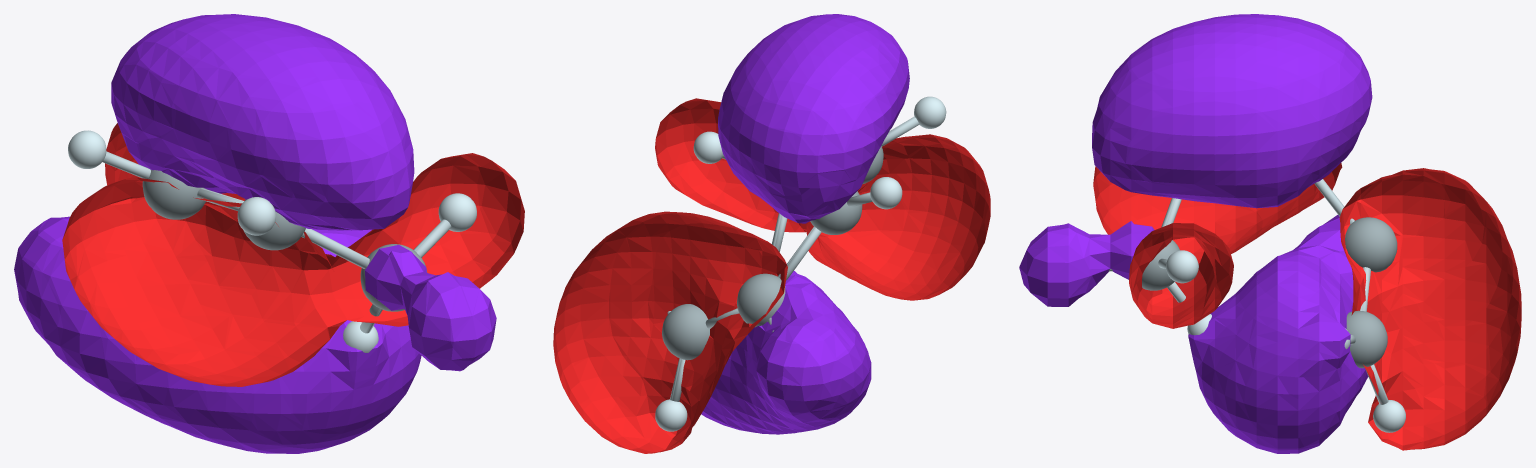
3 renders of one model, left to right at view 1: azimuth 30°, elevation 25°; view 2: azimuth 150°, elevation 25°; view 3: azimuth 270°, elevation 25°, orthographic. The views are drawn at different scales.
Visible parts, largest first — view 1: Renderer Node; view 2: Renderer Node; view 3: Renderer Node.
Part boxes in pixels (box(x1,y1,x2,y2)): Renderer Node: box(14, 14, 524, 453); Renderer Node: box(553, 14, 990, 453); Renderer Node: box(1019, 14, 1521, 453).
Size of the model in its own units: 4.76 by 5.18 by 6.08.
